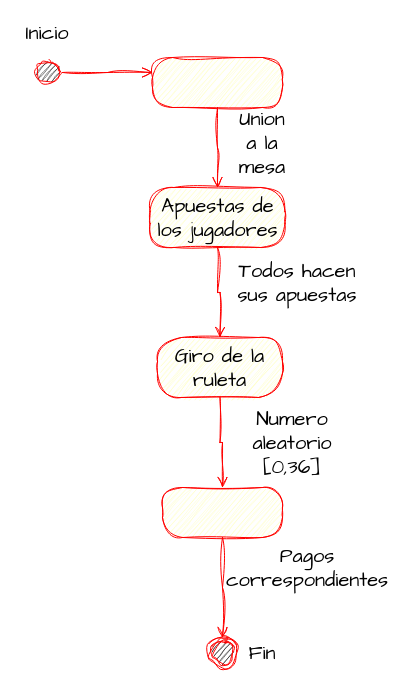
This 405x689 diagram has some shape labels left out. Each missing label, with the centre of its shape:
"Analisis de apuestas" belongs at point (222, 512).
"Registro de jugadores" belongs at point (217, 82).
